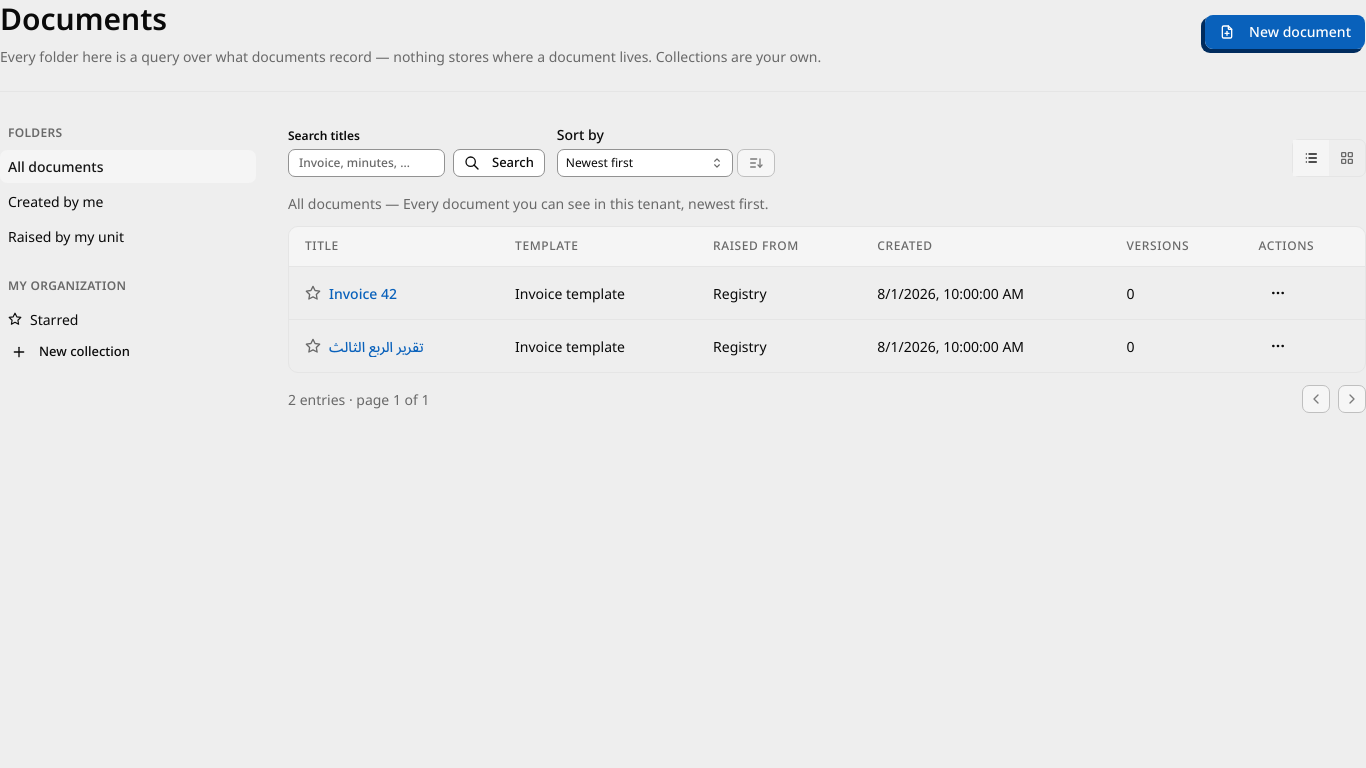
Test case: managing a collection › says there is nowhere to file rather than showing an empty checkbox list
Check: the link "Invoice 42" is shown, box [329,282,397,304]
Click the button named "Document actions" in the row of "Invoice 42": (1278, 293) [1258,279,1296,307]
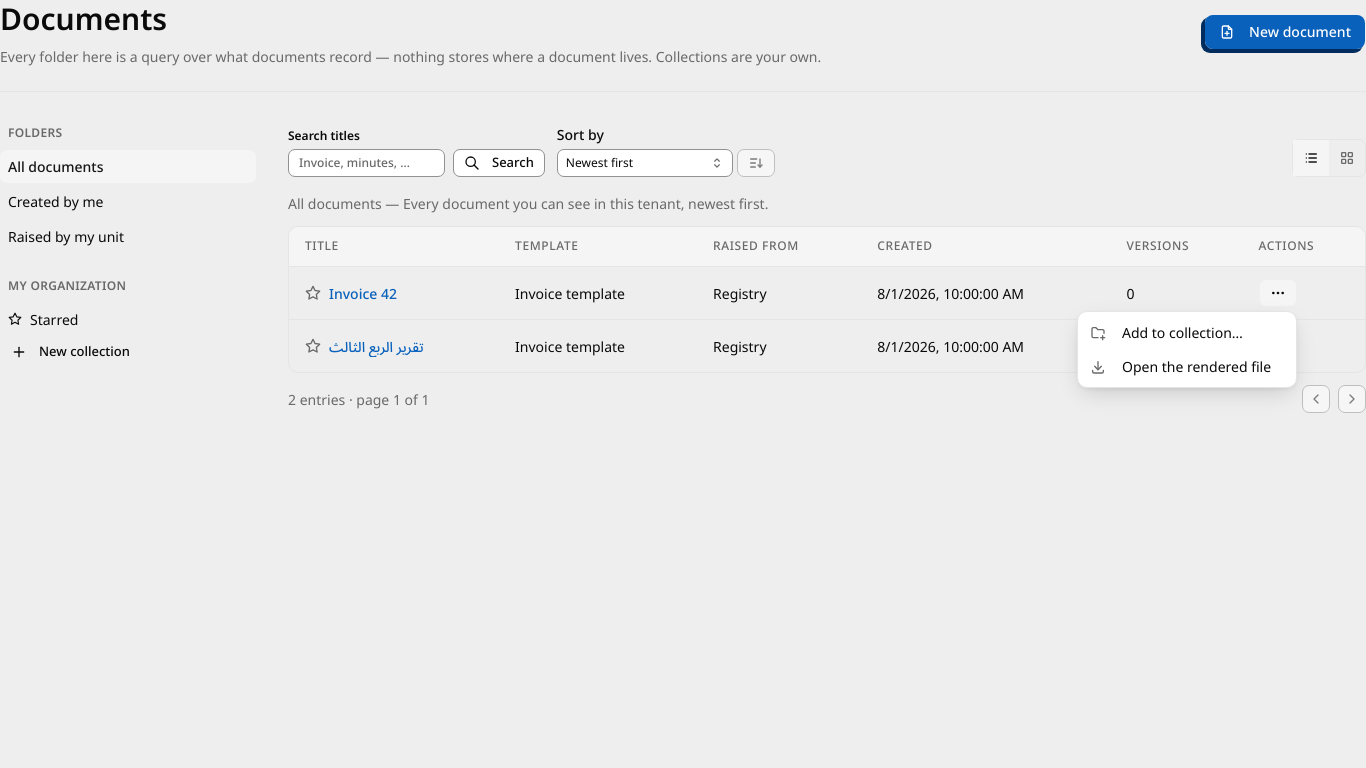
Click the menu item "Add to collection…": (1166, 332) [1090,323,1243,342]
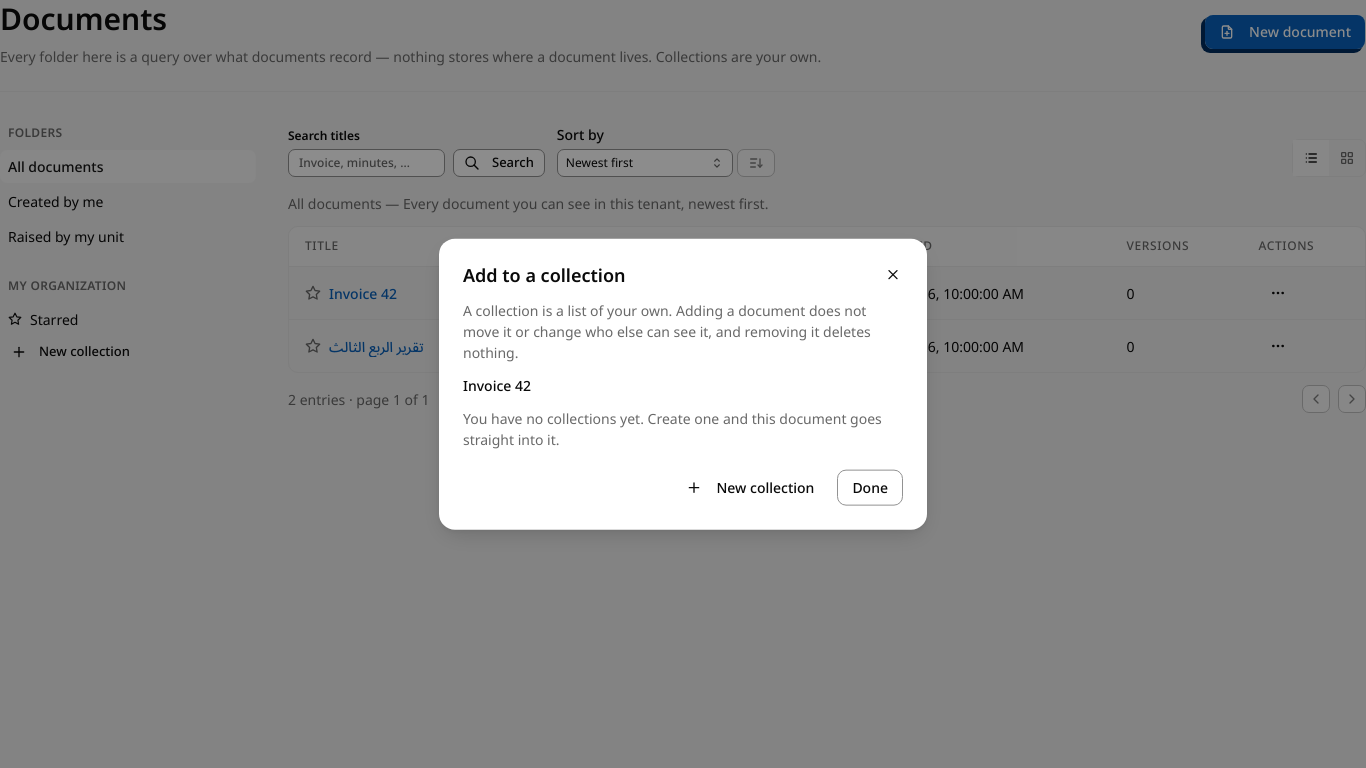
Check: the text "You have no collections yet" is shown, box [463,408,882,448]
